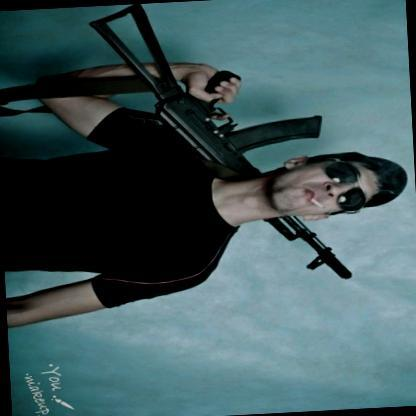rifle: (83, 0, 360, 290)
